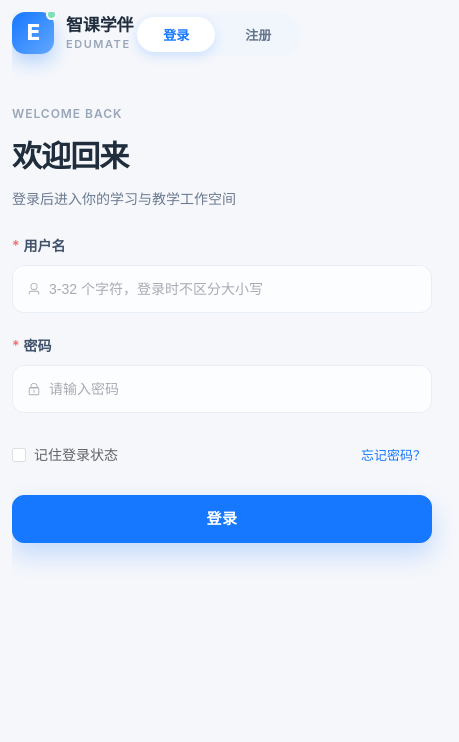
Scenario: LoginView › switches to registration and shows email and confirm fields
Click the button "注册": click(258, 35) [219,17,297,52]
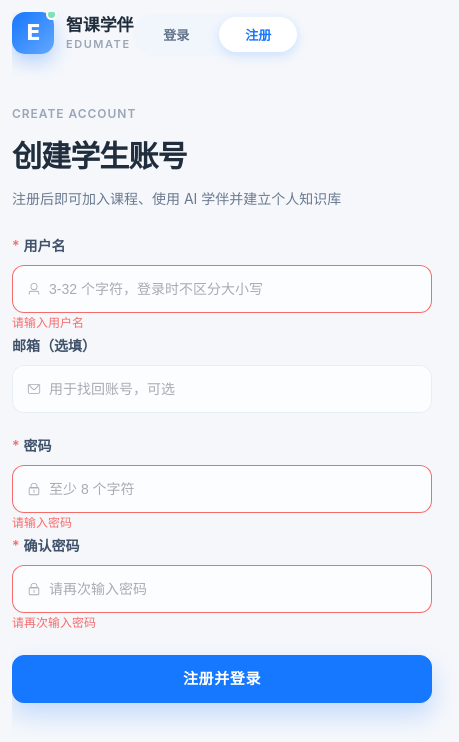
Now the text "创建学生账号" is shown, box [12,138,187,174]
Now the field labelled "邮箱（选填）" is shown, box [49,370,417,408]
Now the number of password fields is 2, box [49,470,417,508]; [49,570,417,608]
